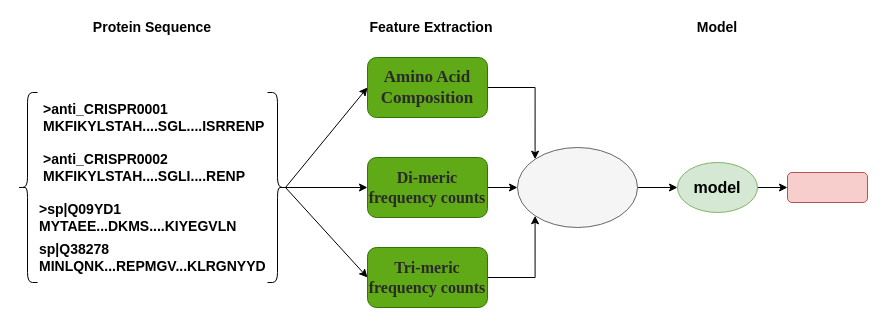
The diagram is 885 pixels wide and 325 high, and some of its shapes have lost their labels. Here are the shapes that lost their labels. From the top down, the box of each, then its label:
(516, 146, 638, 228): SVM
(786, 172, 868, 202): Yes/No
